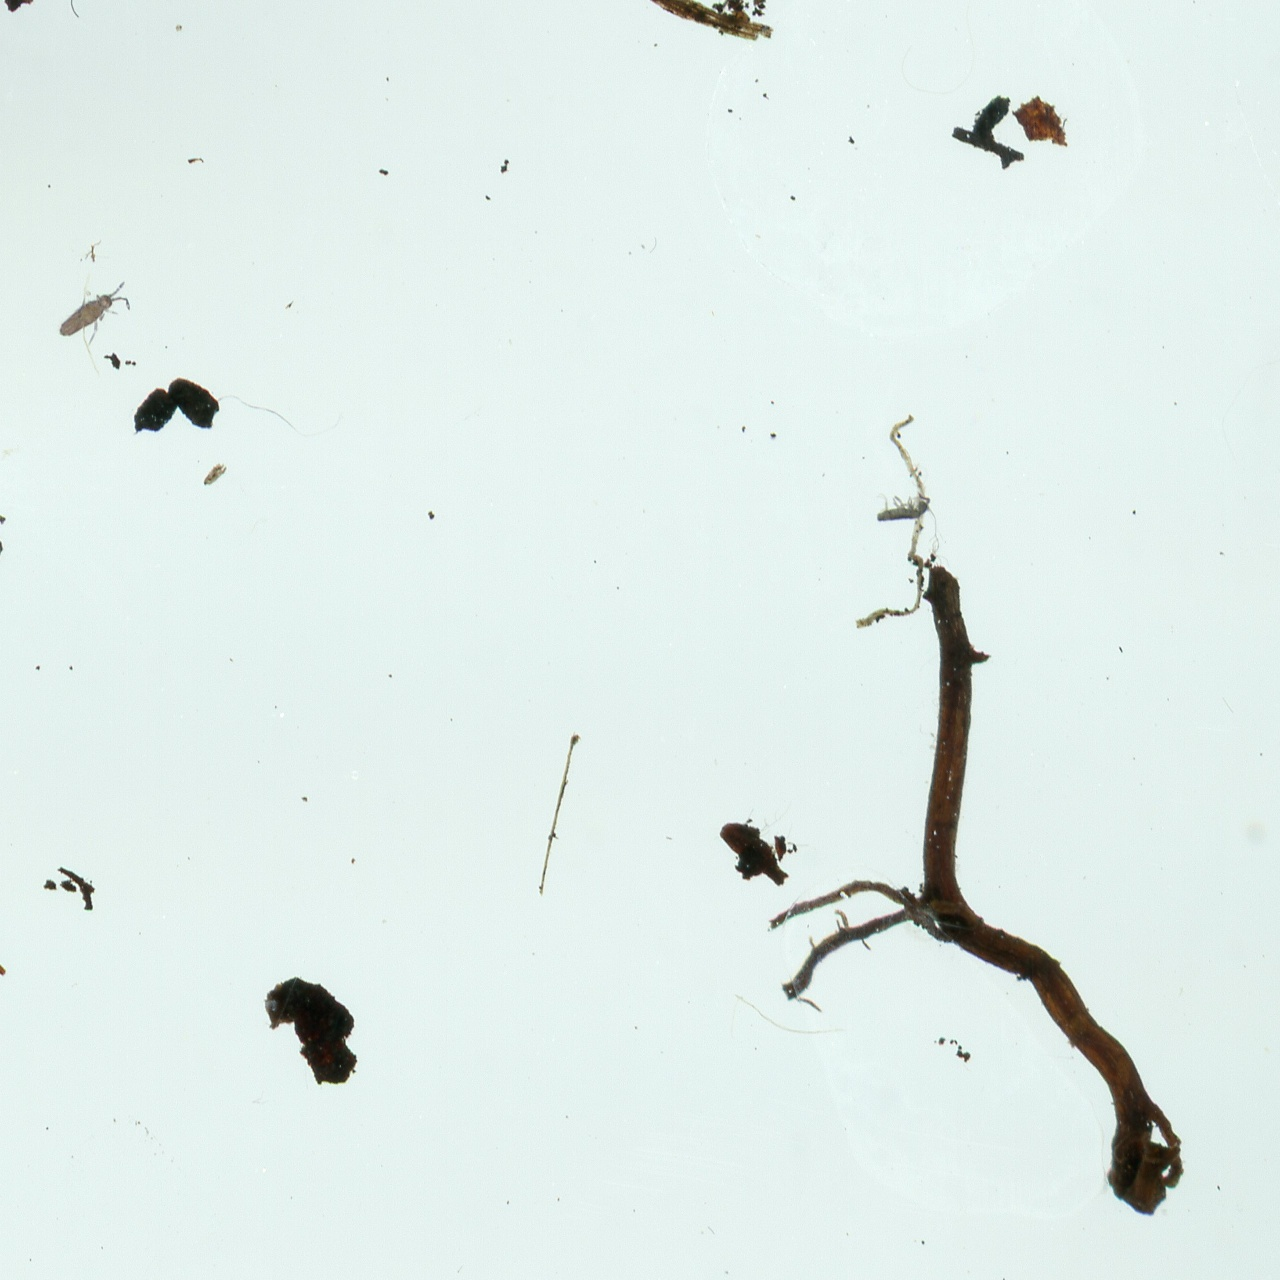arthropod: (50, 280, 134, 341)
